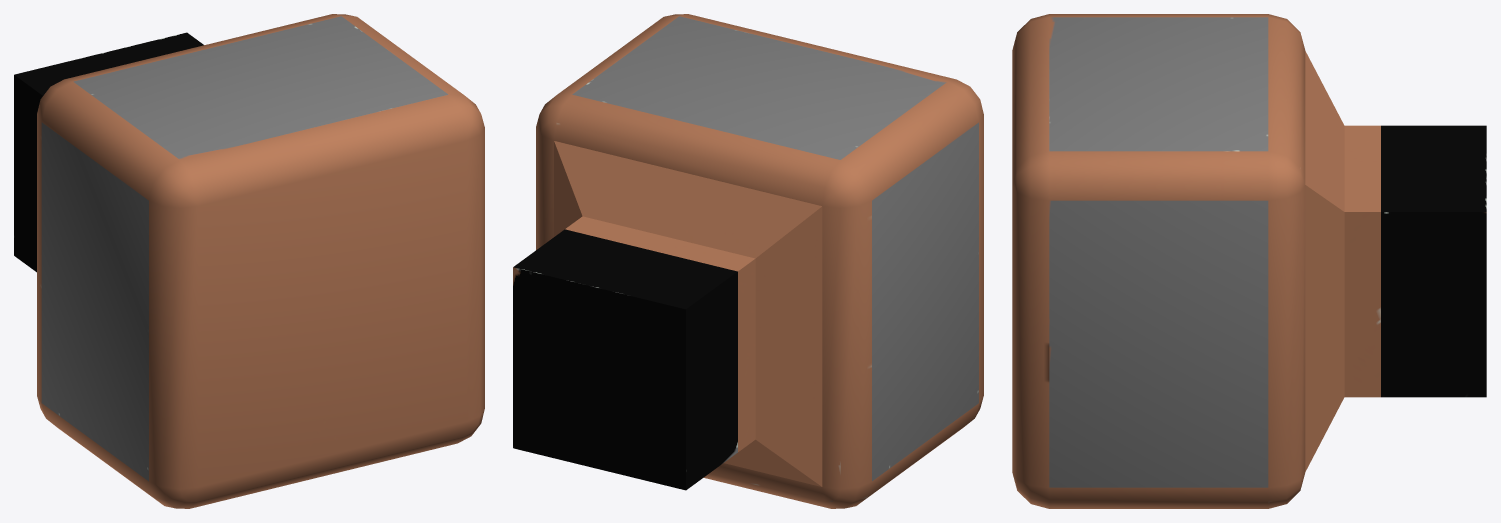
Rendered from 포션 존재 애니메이션.fbx.
3 views of the same model, side by side, from view 1: azimuth 30°, elevation 25°; view 2: azimuth 150°, elevation 25°; view 3: azimuth 270°, elevation 25° (orthographic). The views are drawn at different scales.
Parts seen in each view (by area): view 1: ChamferBox001; view 2: ChamferBox001; view 3: ChamferBox001.
Part boxes in pixels (x1,y1,x2,y2): ChamferBox001: (14,14,484,508); ChamferBox001: (513,14,983,508); ChamferBox001: (1012,14,1486,508).
Bounding box in the file's own units: 0.00914 × 0.0111 × 0.00914.
